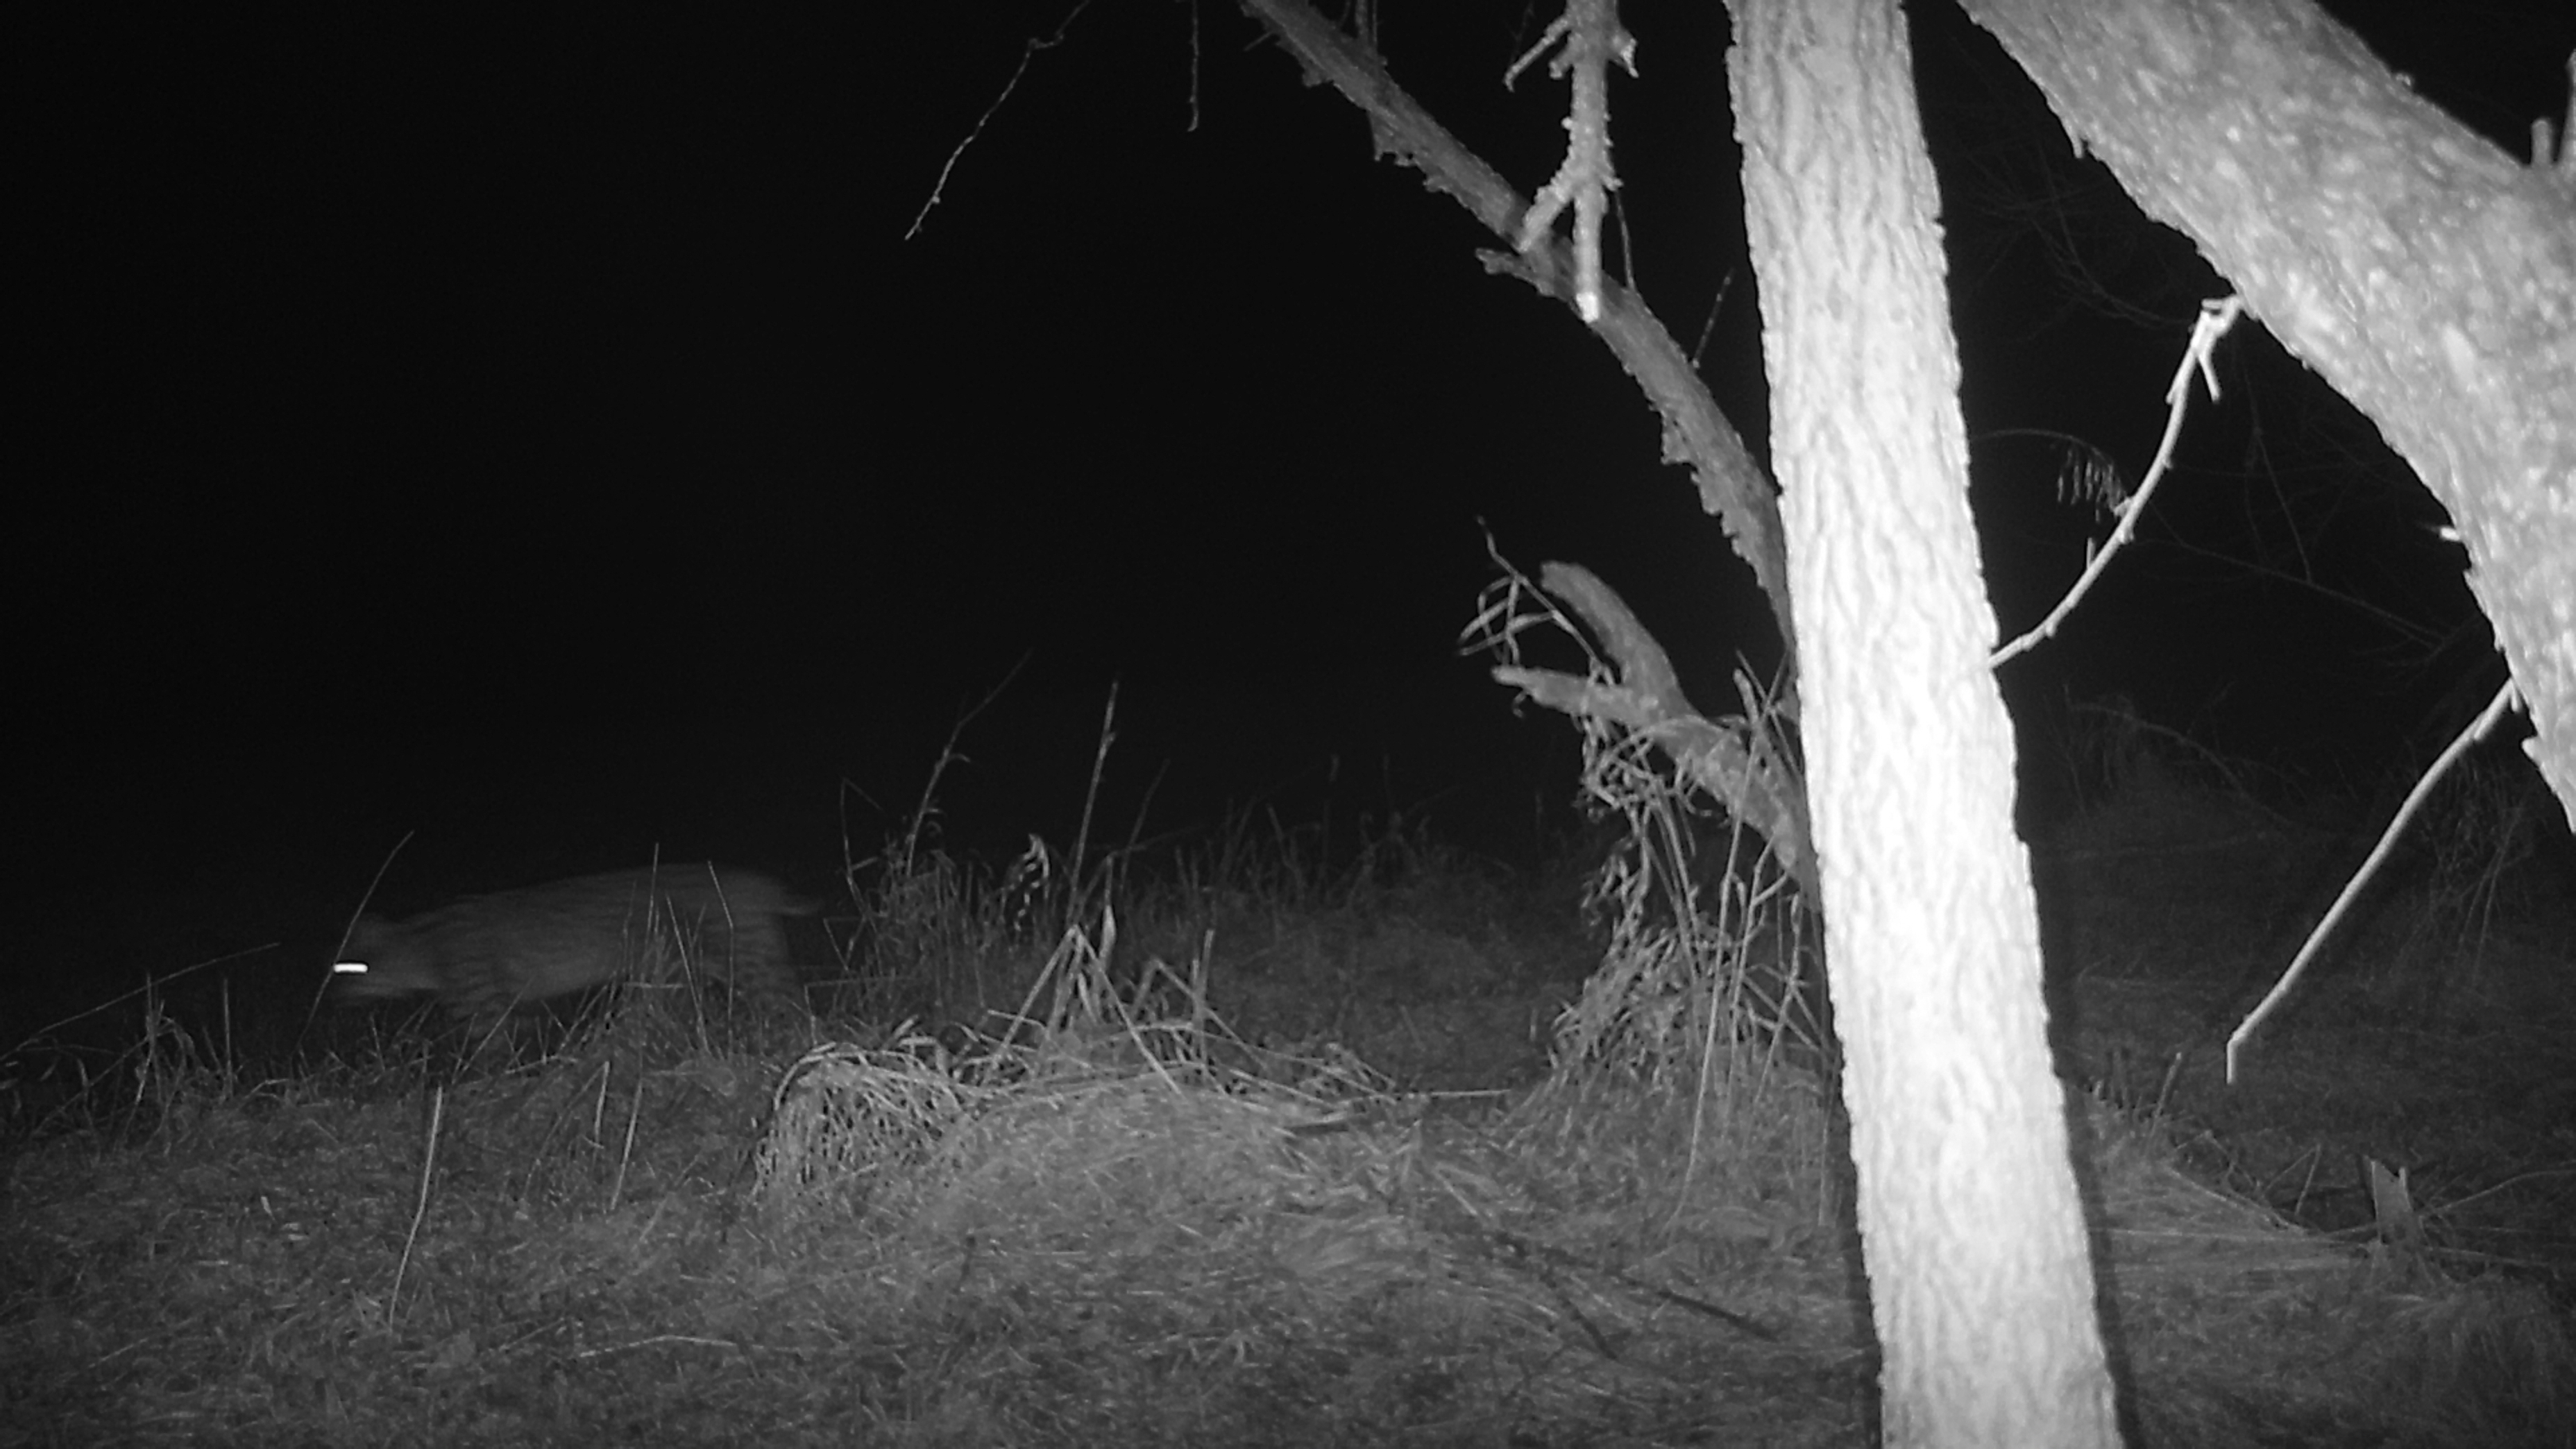Bobcat: (313, 853, 817, 1051)
